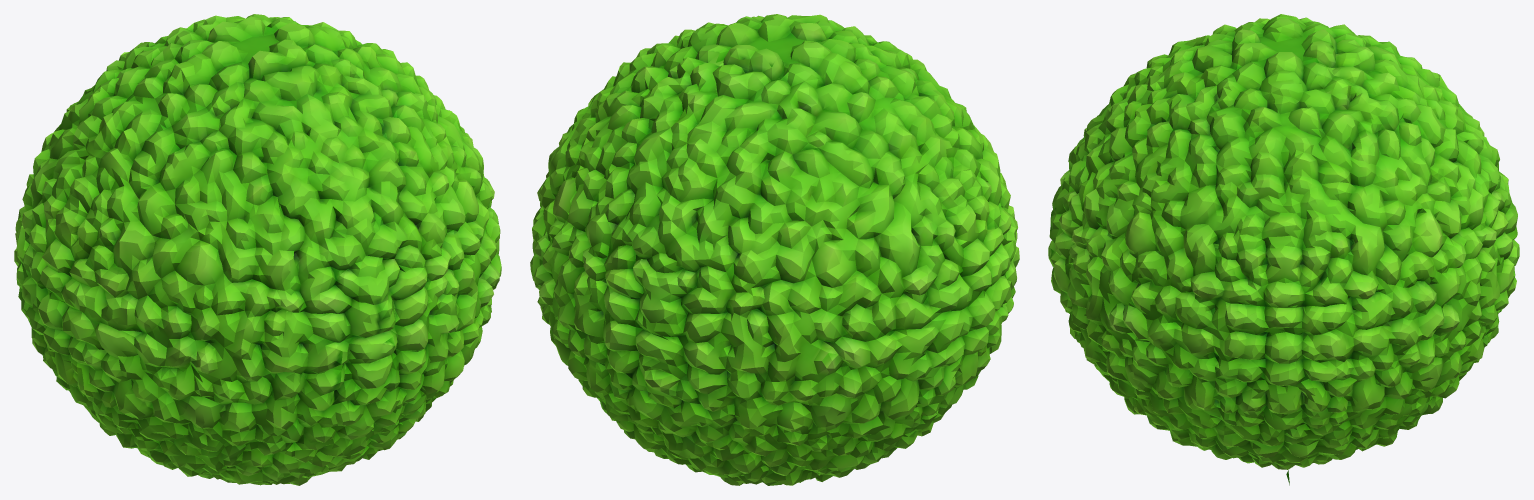
File: PoopFlySwarm.glb
3 renders of one model, left to right at view 1: azimuth 30°, elevation 25°; view 2: azimuth 150°, elevation 25°; view 3: azimuth 270°, elevation 25°, orthographic. The views are drawn at different scales.
Parts seen in each view (by area): view 1: PoopFlySwarm; view 2: PoopFlySwarm; view 3: PoopFlySwarm.
Part boxes in pixels (x1=…): PoopFlySwarm: x1=14, y1=14, x2=501, y2=485; PoopFlySwarm: x1=530, y1=14, x2=1019, y2=485; PoopFlySwarm: x1=1048, y1=14, x2=1519, y2=485.
Size of the model in its own units: 1.51 by 1.43 by 1.49.
Materials: 1 (1 with a texture image).
